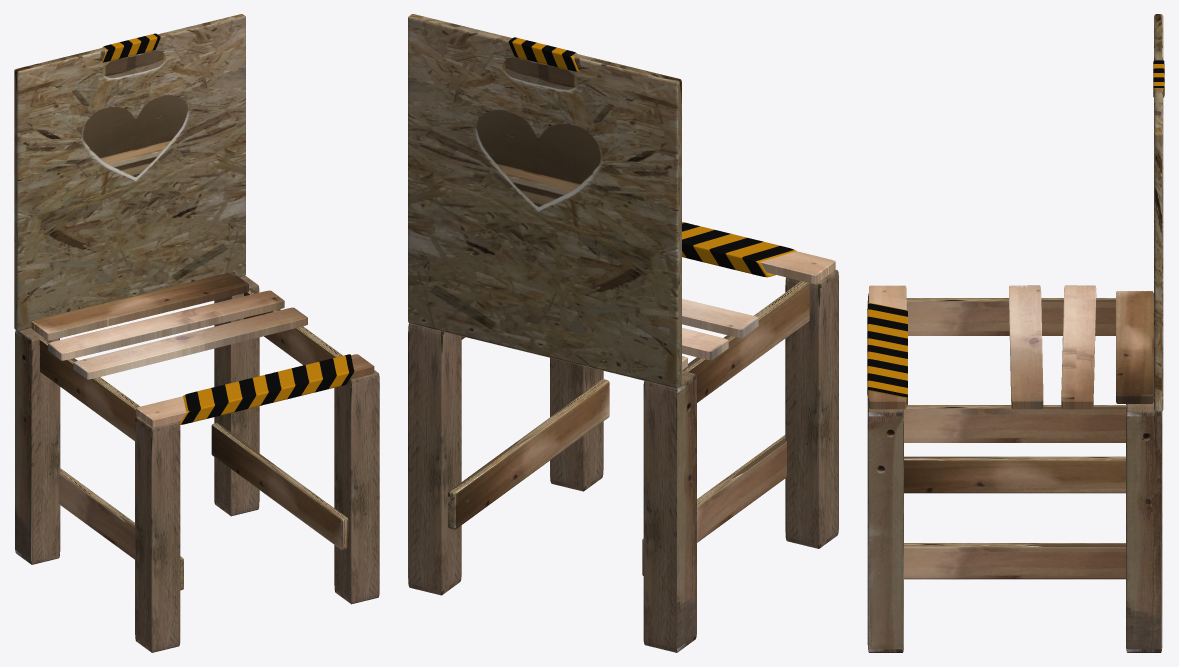
File: the_chair_of_time.obj
3 renders of one model, left to right at view 1: azimuth 30°, elevation 25°; view 2: azimuth 150°, elevation 25°; view 3: azimuth 270°, elevation 25°, orthographic. The views are drawn at different scales.
Visible parts, largest first — view 1: Cube, Cube.005_Cube.004, Cube.003_Cube.022, Cube.004_Cube.017, Cube.009_Cube.018, Cube.002_Cube.017, Cube.010_Cube.019, Cube.012_Cube.023, Cube.011_Cube.020, Cube.008_Cube.015, Cube.013_Cube.027, Cube.016_Cube.029 (+4 smaller); view 2: Cube, Cube.004_Cube.017, Cube.002_Cube.017, Cube.005_Cube.004, Cube.012_Cube.023, Cube.008_Cube.015, Cube.003_Cube.022, Cube.013_Cube.027, Cube.016_Cube.029, Cube.011_Cube.020, Cube.001_Cube.010, Cube.015_Cube.028 (+1 smaller); view 3: Cube.002_Cube.017, Cube.003_Cube.022, Cube.013_Cube.027, Cube.012_Cube.023, Cube.007_Cube.015, Cube.008_Cube.015, Cube.009_Cube.018, Cube.010_Cube.019, Cube.011_Cube.020, Cube, Cube.016_Cube.029, Cube.017_Cube.030 (+1 smaller).
Boxes of the visible parts, x1,y1,x2,y2 form: Cube: [14, 14, 245, 330]; Cube.005_Cube.004: [135, 416, 180, 652]; Cube.003_Cube.022: [334, 370, 379, 604]; Cube.004_Cube.017: [15, 328, 60, 564]; Cube.009_Cube.018: [31, 272, 248, 340]; Cube.002_Cube.017: [214, 275, 259, 516]; Cube.010_Cube.019: [48, 290, 284, 360]; Cube.012_Cube.023: [211, 423, 348, 550]; Cube.011_Cube.020: [73, 307, 307, 379]; Cube.008_Cube.015: [39, 338, 139, 440]; Cube.013_Cube.027: [58, 468, 183, 590]; Cube.016_Cube.029: [179, 374, 272, 424]; Cube: [408, 14, 681, 388]; Cube.004_Cube.017: [643, 371, 696, 652]; Cube.002_Cube.017: [408, 323, 461, 595]; Cube.005_Cube.004: [785, 270, 838, 548]; Cube.012_Cube.023: [448, 379, 609, 529]; Cube.008_Cube.015: [682, 281, 809, 402]; Cube.003_Cube.022: [550, 358, 603, 491]; Cube.013_Cube.027: [642, 435, 786, 575]; Cube.016_Cube.029: [682, 225, 796, 277]; Cube.011_Cube.020: [682, 299, 758, 337]; Cube.001_Cube.010: [760, 251, 835, 283]; Cube.015_Cube.028: [508, 37, 578, 71]; Cube.002_Cube.017: [1126, 397, 1162, 652]; Cube.003_Cube.022: [867, 398, 903, 652]; Cube.013_Cube.027: [904, 456, 1125, 493]; Cube.012_Cube.023: [904, 543, 1125, 579]; Cube.007_Cube.015: [903, 405, 1126, 442]; Cube.008_Cube.015: [906, 298, 1115, 335]; Cube.009_Cube.018: [1116, 291, 1153, 403]; Cube.010_Cube.019: [1061, 285, 1096, 409]; Cube.011_Cube.020: [1009, 285, 1043, 409]; Cube: [1154, 14, 1163, 412]; Cube.016_Cube.029: [867, 303, 907, 354]; Cube.017_Cube.030: [867, 347, 907, 404].
Bounding box in the file's own units: 0.47 × 0.9495 × 0.4909.
Materials: 3 (1 with a texture image).
